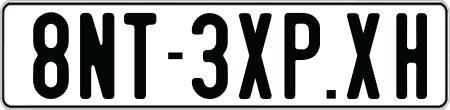3: (192, 10, 232, 101)
8: (30, 11, 72, 99)
H: (395, 12, 428, 101)
N: (77, 12, 117, 104)
P: (283, 13, 322, 99)
T: (123, 10, 158, 100)
X: (238, 11, 271, 102), (344, 12, 377, 102)
